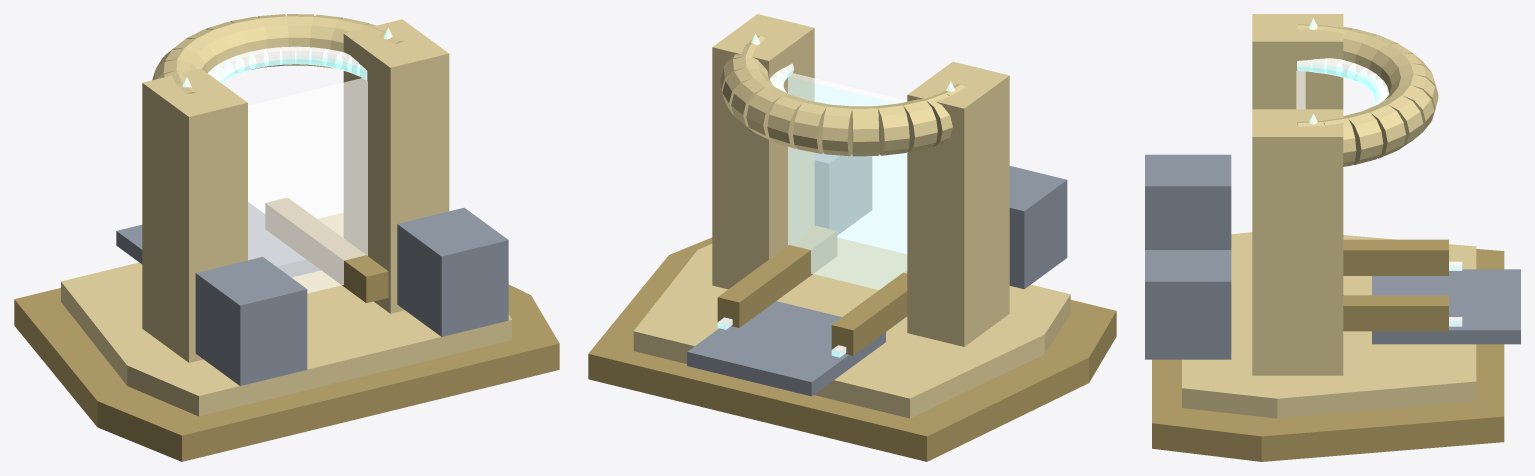
Rendered from helias_gateway.glb.
3 renders of one model, left to right at view 1: azimuth 30°, elevation 25°; view 2: azimuth 150°, elevation 25°; view 3: azimuth 270°, elevation 25°, orthographic. The views are drawn at different scales.
Visible parts, largest first — view 1: foundation_000, floor_001, portal_tower_003, portal_tower_007, warp_field_043, rear_reactor_006, rear_reactor_010, side_conduit_045, ramp_002, gateway_arch_015, gateway_arch_016, gateway_arch_014 (+5 smaller); view 2: foundation_000, floor_001, portal_tower_003, portal_tower_007, warp_field_043, ramp_002, rear_reactor_006, side_conduit_045, rear_reactor_010, side_conduit_044, gateway_arch_019, gateway_arch_021 (+9 smaller); view 3: portal_tower_007, floor_001, foundation_000, rear_reactor_010, rear_reactor_006, portal_tower_003, ramp_002, side_conduit_045, side_conduit_044, gateway_arch_013, gateway_arch_014, gateway_arch_015 (+9 smaller).
Boxes of the visible parts, x1=… form: foundation_000: x1=14, y1=284, x2=559, y2=461; floor_001: x1=61, y1=213, x2=512, y2=416; portal_tower_003: x1=142, y1=68, x2=247, y2=362; portal_tower_007: x1=343, y1=19, x2=449, y2=313; warp_field_043: x1=248, y1=78, x2=367, y2=293; rear_reactor_006: x1=195, y1=257, x2=307, y2=385; rear_reactor_010: x1=397, y1=207, x2=508, y2=336; side_conduit_045: x1=265, y1=198, x2=388, y2=302; ramp_002: x1=116, y1=202, x2=320, y2=277; gateway_arch_015: x1=287, y1=14, x2=313, y2=65; gateway_arch_016: x1=258, y1=14, x2=288, y2=67; gateway_arch_014: x1=310, y1=14, x2=342, y2=68; foundation_000: x1=588, y1=237, x2=1116, y2=461; floor_001: x1=633, y1=237, x2=1070, y2=418; portal_tower_003: x1=907, y1=61, x2=1009, y2=346; portal_tower_007: x1=712, y1=14, x2=814, y2=289; warp_field_043: x1=788, y1=73, x2=907, y2=289; ramp_002: x1=687, y1=301, x2=885, y2=396; rear_reactor_006: x1=1009, y1=166, x2=1067, y2=289; side_conduit_045: x1=717, y1=226, x2=836, y2=327; rear_reactor_010: x1=815, y1=153, x2=871, y2=234; side_conduit_044: x1=831, y1=270, x2=907, y2=355; gateway_arch_019: x1=822, y1=104, x2=852, y2=156; gateway_arch_021: x1=876, y1=103, x2=909, y2=155; portal_tower_007: x1=1252, y1=109, x2=1343, y2=375; floor_001: x1=1182, y1=232, x2=1476, y2=418; foundation_000: x1=1152, y1=249, x2=1504, y2=461; rear_reactor_010: x1=1145, y1=250, x2=1231, y2=359; rear_reactor_006: x1=1145, y1=154, x2=1231, y2=249; portal_tower_003: x1=1252, y1=14, x2=1343, y2=109; ramp_002: x1=1372, y1=269, x2=1520, y2=344; side_conduit_045: x1=1343, y1=295, x2=1448, y2=331; side_conduit_044: x1=1343, y1=239, x2=1448, y2=275; gateway_arch_013: x1=1343, y1=111, x2=1383, y2=164; gateway_arch_014: x1=1362, y1=104, x2=1405, y2=158; gateway_arch_015: x1=1379, y1=95, x2=1423, y2=149.
Bounding box in the file's own units: 4 × 2.67 × 3.1.
